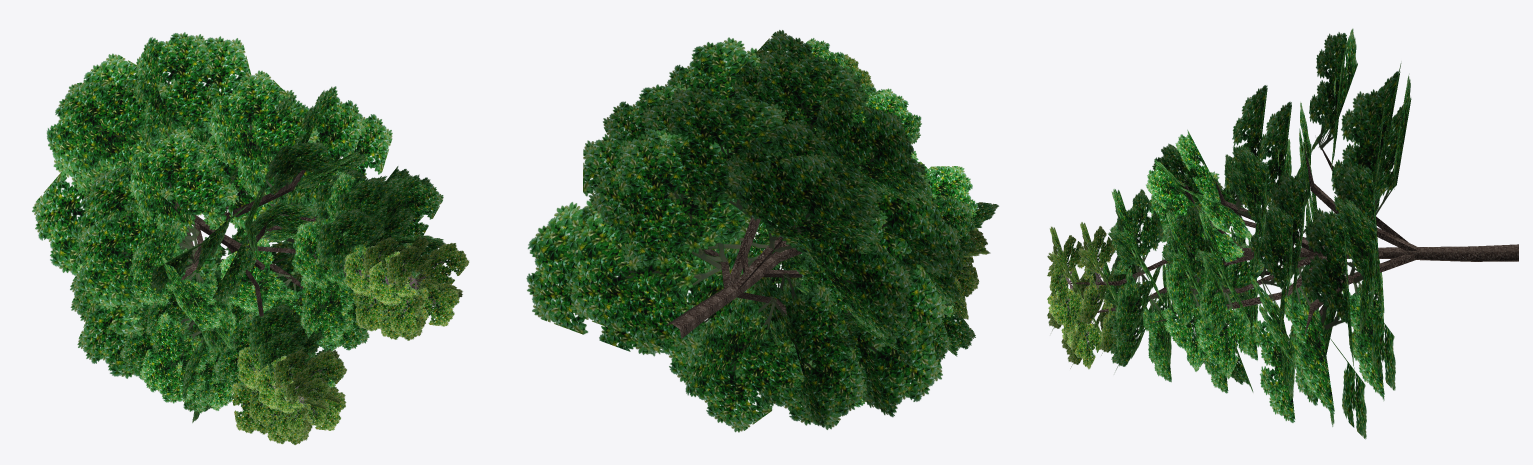
Rendered from RenXinGuoShu.gltf.
3 renders of one model, left to right at view 1: azimuth 30°, elevation 25°; view 2: azimuth 150°, elevation 25°; view 3: azimuth 270°, elevation 25°, orthographic. The views are drawn at different scales.
Parts seen in each view (by area): view 1: Group_MatrixTransform_RenXinGuoShu_Geometry_0, Group_MatrixTransform_RenXinGuoShu_Geometry_1, Group_MatrixTransform_RenXinGuoShu_Geometry_2; view 2: Group_MatrixTransform_RenXinGuoShu_Geometry_0, Group_MatrixTransform_RenXinGuoShu_Geometry_2, Group_MatrixTransform_RenXinGuoShu_Geometry_1; view 3: Group_MatrixTransform_RenXinGuoShu_Geometry_0, Group_MatrixTransform_RenXinGuoShu_Geometry_1, Group_MatrixTransform_RenXinGuoShu_Geometry_2.
Part boxes in pixels (x1,y1,x2,y2): Group_MatrixTransform_RenXinGuoShu_Geometry_0: (32,32,445,422); Group_MatrixTransform_RenXinGuoShu_Geometry_1: (231,235,469,445); Group_MatrixTransform_RenXinGuoShu_Geometry_2: (173,117,414,399); Group_MatrixTransform_RenXinGuoShu_Geometry_0: (526,30,998,432); Group_MatrixTransform_RenXinGuoShu_Geometry_2: (665,206,809,338); Group_MatrixTransform_RenXinGuoShu_Geometry_1: (844,54,990,319); Group_MatrixTransform_RenXinGuoShu_Geometry_0: (1098,28,1411,439); Group_MatrixTransform_RenXinGuoShu_Geometry_1: (1047,222,1116,369); Group_MatrixTransform_RenXinGuoShu_Geometry_2: (1068,138,1518,335).
Bounding box in the file's own units: 7.96 × 7.51 × 8.41.
Materials: 3 (3 with a texture image).
